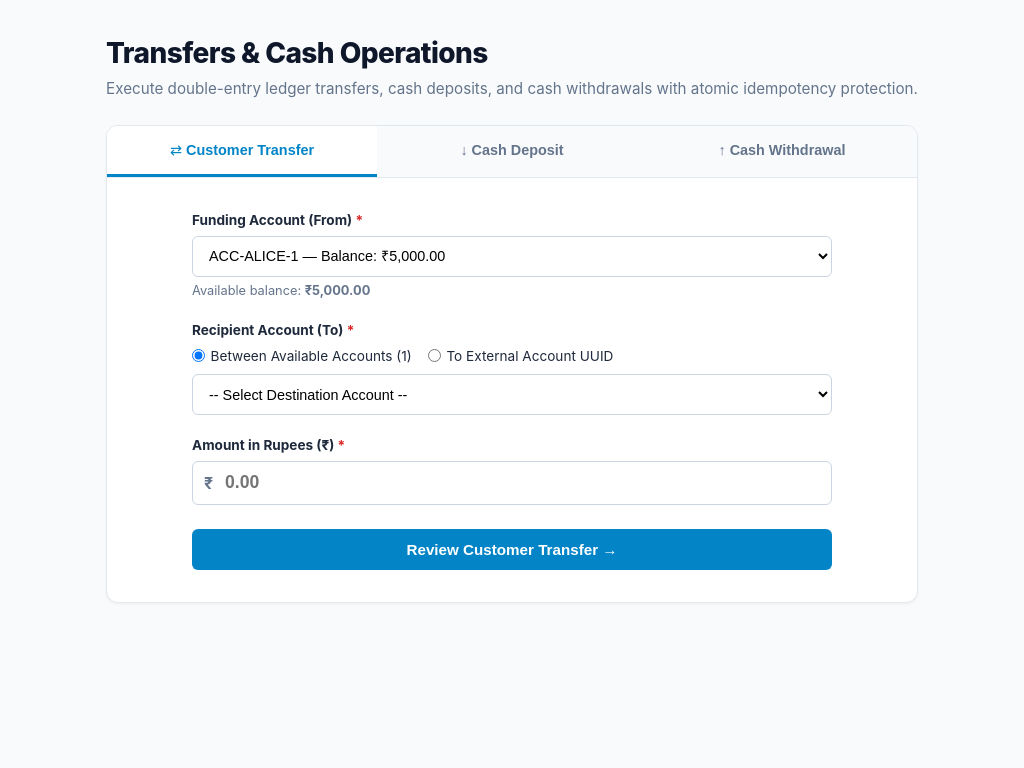
TransfersPage Component Integration › displays backend 422 InsufficientFundsError and clears pending sessionStorage
The image size is (1024, 768).
expect the dropdown with test id "transfer-source-select" is shown: met, box 192,236 -> 832,277
Select "ACC-ALICE-2 (Customer Account)" in the dropdown with test id "transfer-dest-select" at (512, 394), box 192,374 -> 832,415
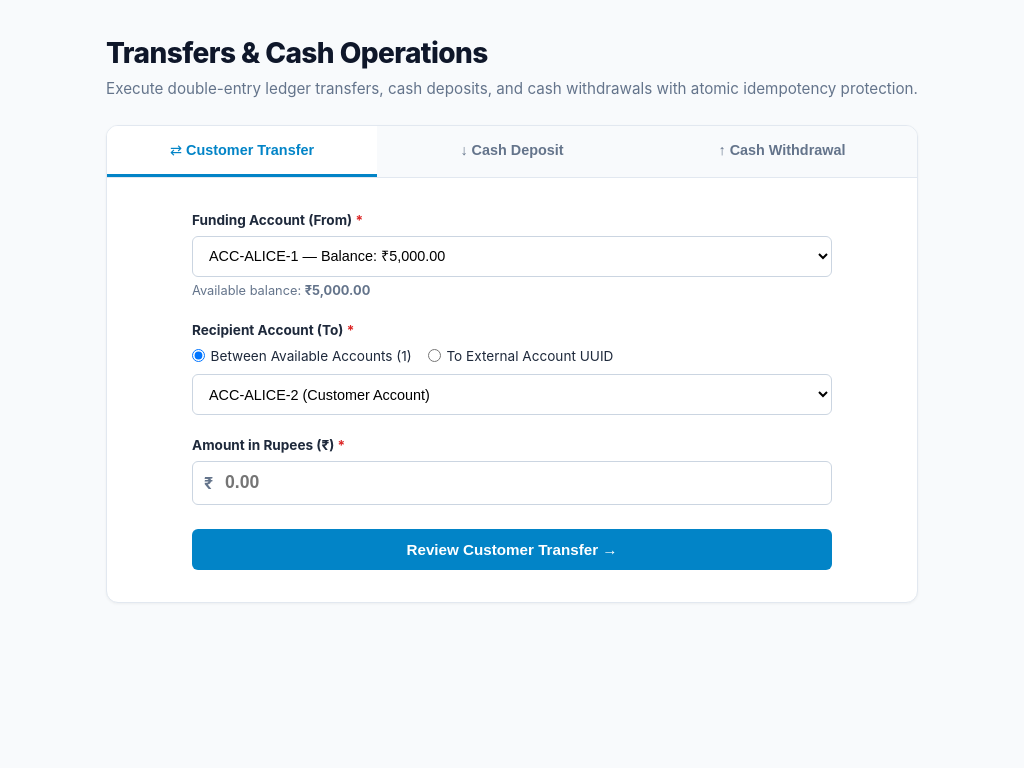
Type "500" into the field with test id "transfer-amount-input".
click(512, 483); type("500")  # box 192,461 -> 832,505
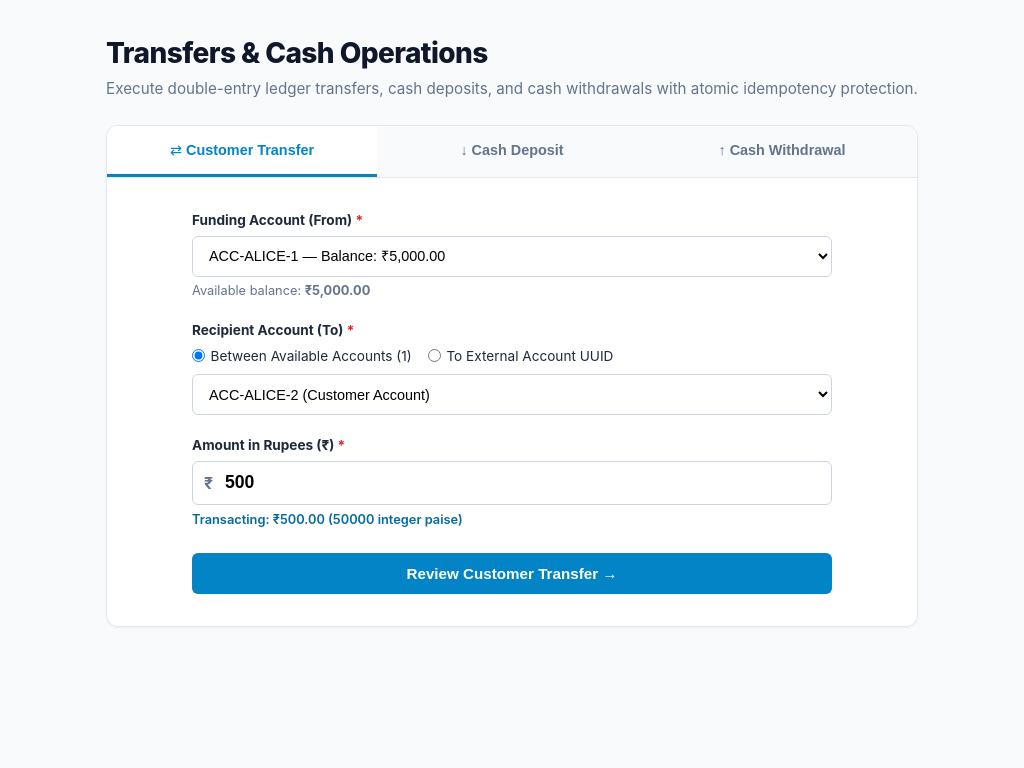
Click the button with test id "transfer-submit-btn".
click(512, 574)  # box 192,554 -> 832,594
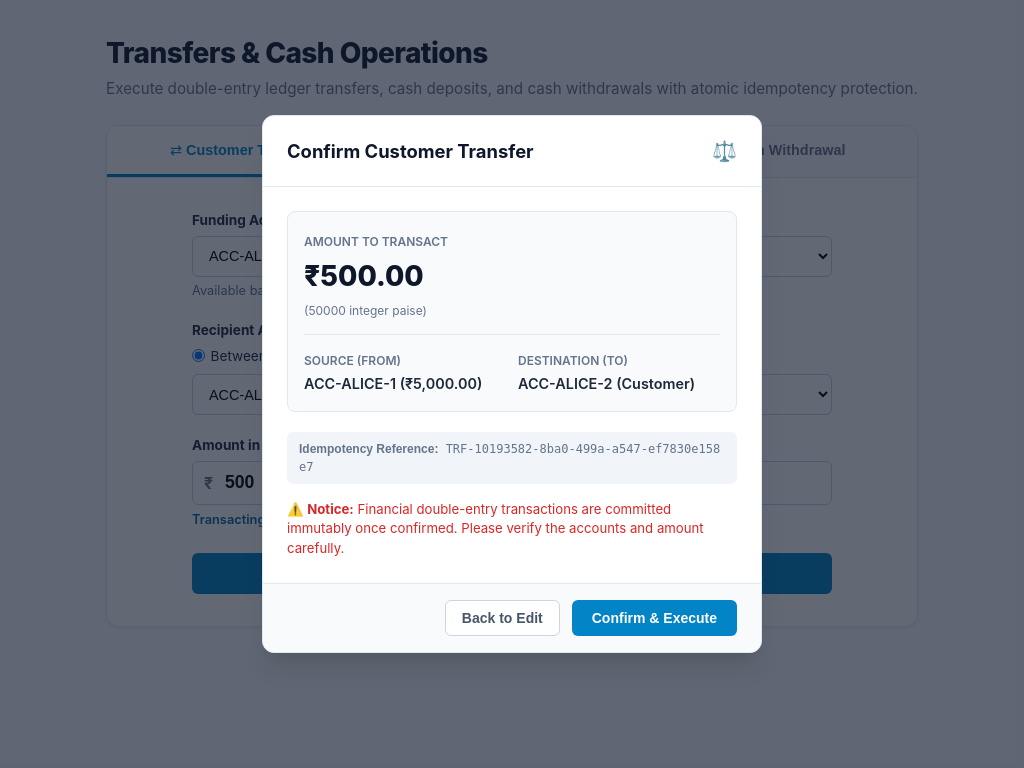
expect the button with test id "modal-confirm-btn" is shown: met
Click the button with test id "modal-confirm-btn".
click(654, 618)  # box 572,600 -> 737,636
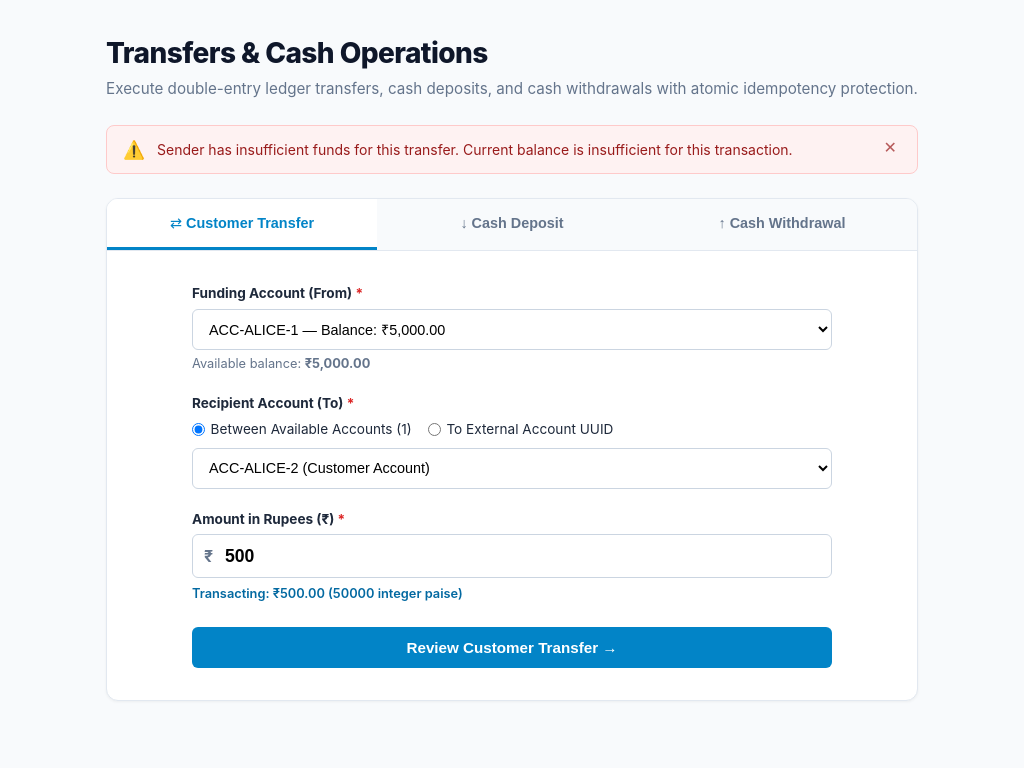
expect the message shows "insufficient funds": met, box 157,141 -> 793,158
expect the heading "Confirm Customer Transfer" is gone: met
